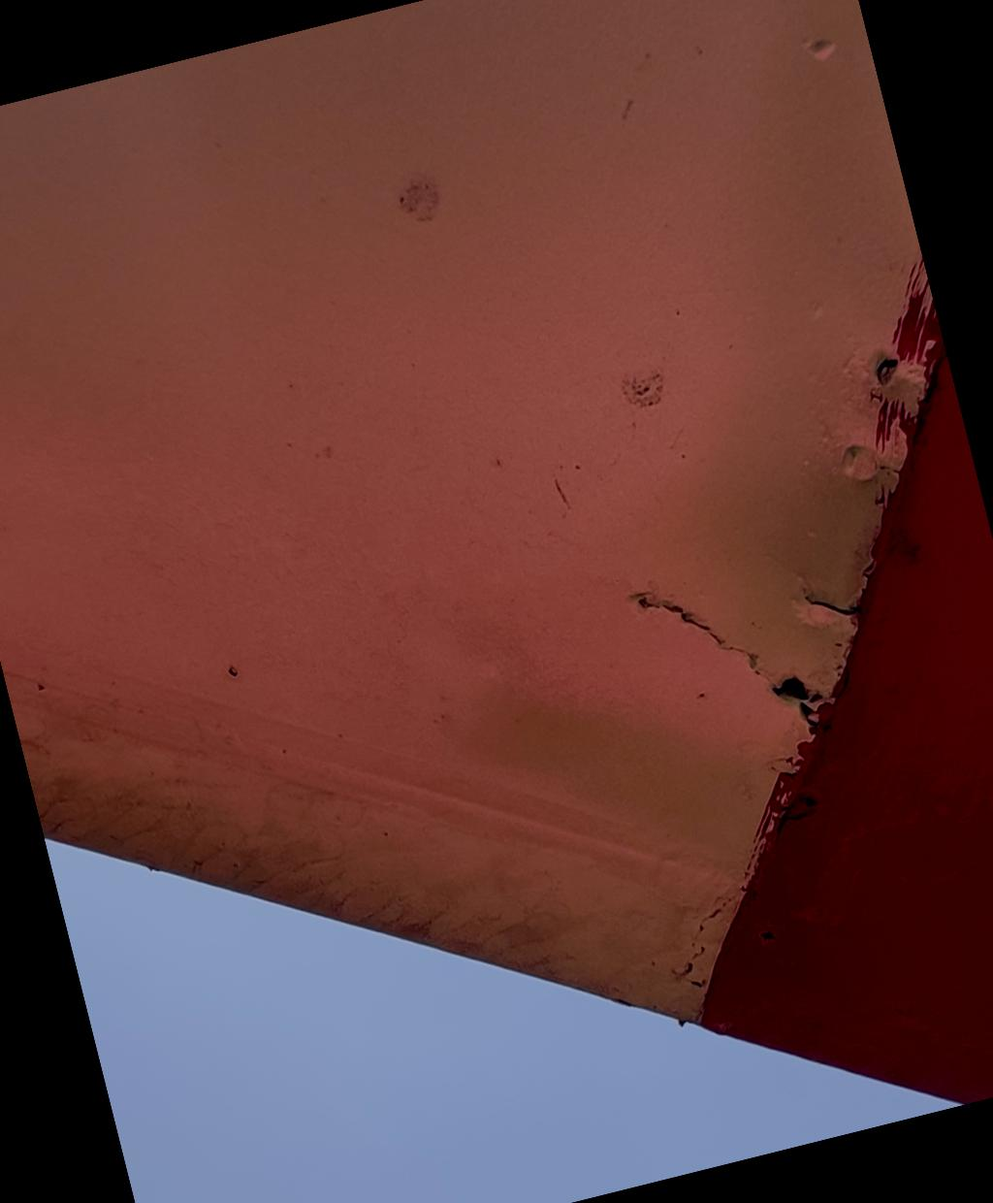crack: (612, 532, 855, 784), (792, 568, 876, 649)
